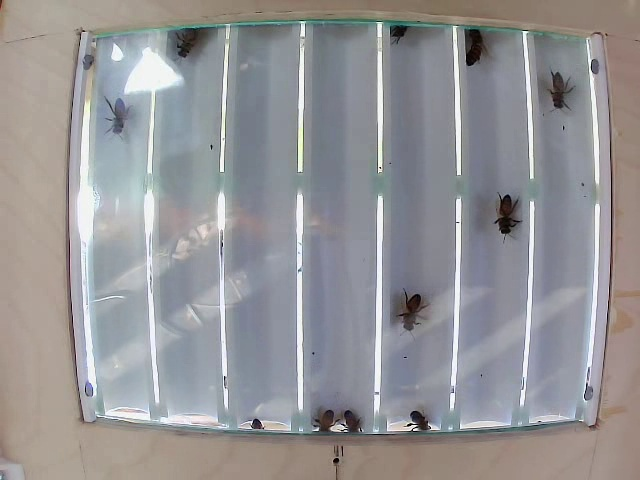bee: (487, 194, 526, 243), (460, 30, 492, 83), (178, 26, 217, 64), (395, 299, 429, 340), (547, 67, 581, 106), (92, 109, 147, 130)
